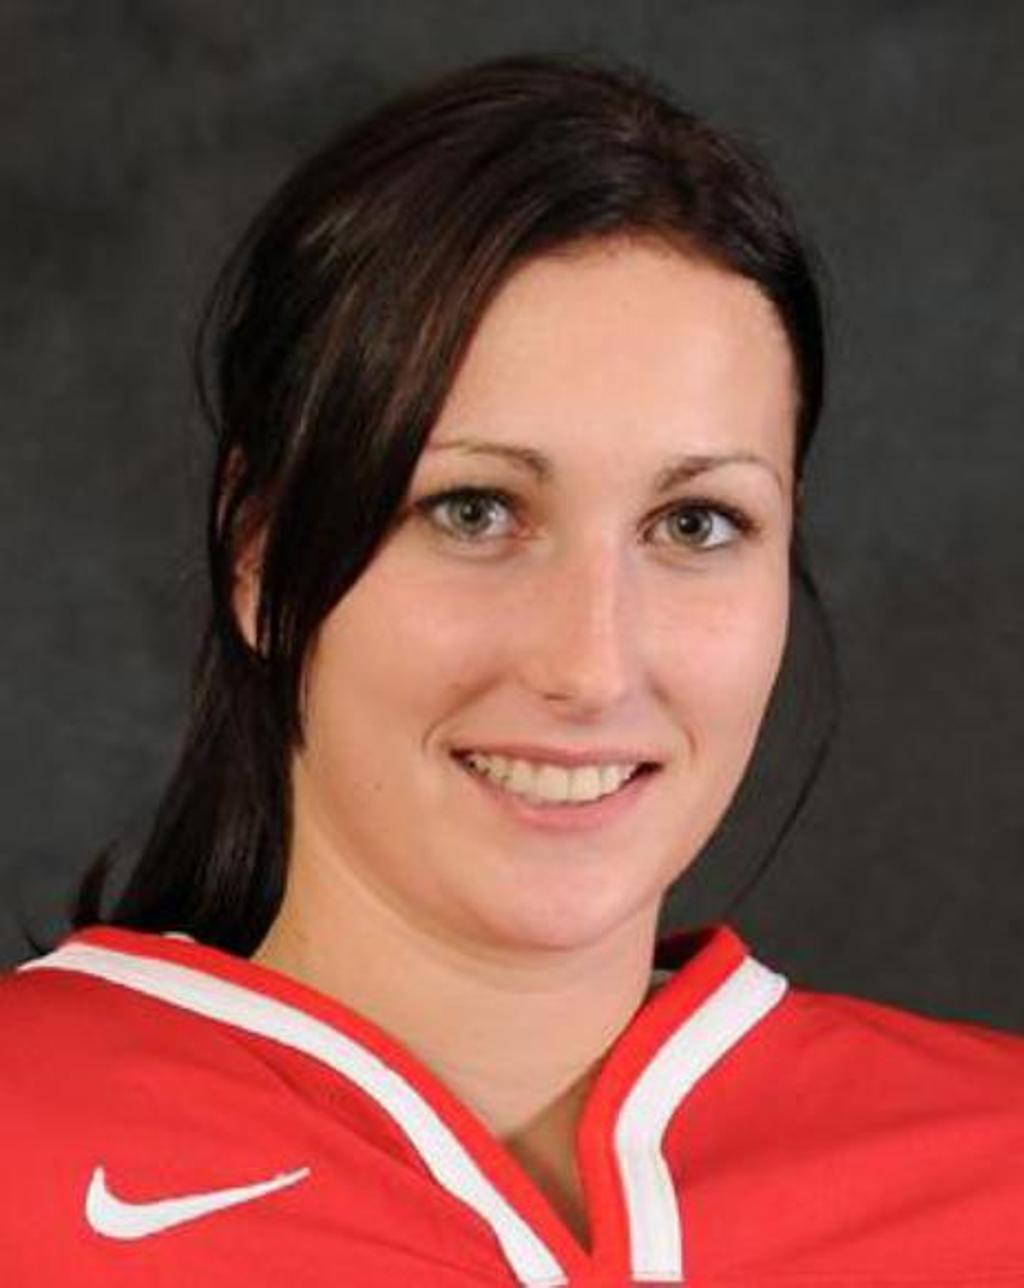face: (293, 253, 806, 945)
